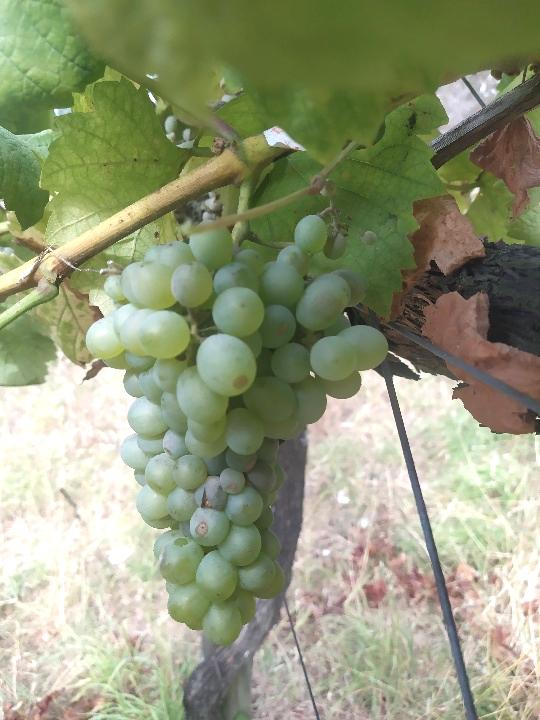grape: (84, 212, 392, 645)
